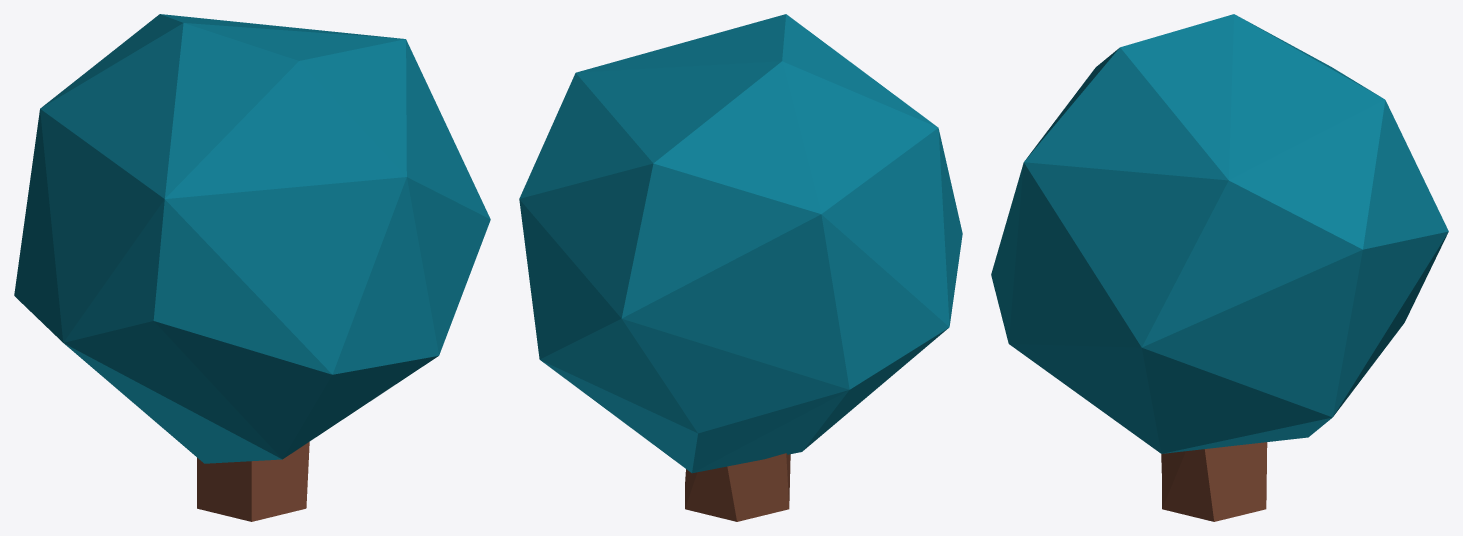
Rendered from Bush_3_summer_blue_vc.fbx.
3 renders of one model, left to right at view 1: azimuth 30°, elevation 25°; view 2: azimuth 150°, elevation 25°; view 3: azimuth 270°, elevation 25°, orthographic. The views are drawn at different scales.
Parts seen in each view (by area): view 1: Bush_3_summer_blue_vc; view 2: Bush_3_summer_blue_vc; view 3: Bush_3_summer_blue_vc.
Boxes of the visible parts, x1,y1,x2,y2 form: Bush_3_summer_blue_vc: (14,14,490,521); Bush_3_summer_blue_vc: (519,14,962,521); Bush_3_summer_blue_vc: (991,14,1448,521).
Size of the model in its own units: 35 by 39.36 by 35.84.
